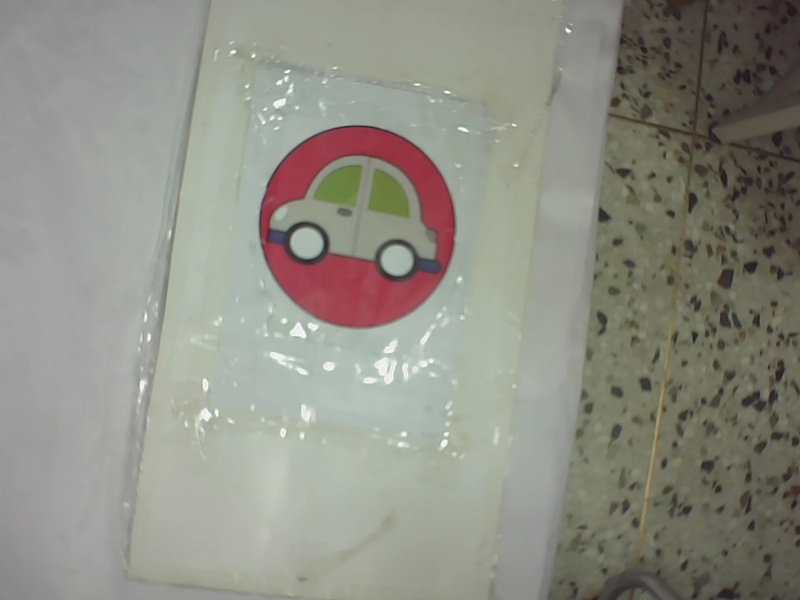areaC: (244, 110, 463, 334)
